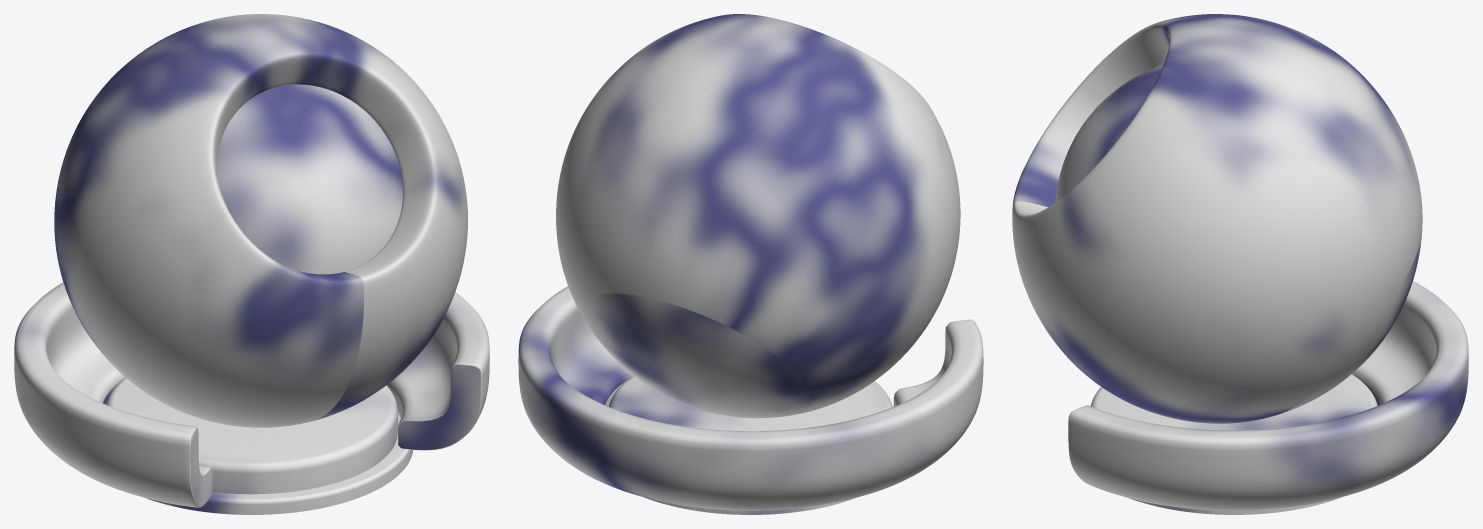
File: standard_surface_marble_solid.mtlx.gltf
The picture shows the model from 3 angles, left to right: view 1: azimuth 30°, elevation 25°; view 2: azimuth 150°, elevation 25°; view 3: azimuth 270°, elevation 25°; orthographic projection. The views are drawn at different scales.
Visible parts, largest first — view 1: Preview_Mesh, Calibration_Mesh; view 2: Preview_Mesh, Calibration_Mesh; view 3: Preview_Mesh, Calibration_Mesh.
Part boxes in pixels (x1,y1,x2,y2): Preview_Mesh: (14, 14, 489, 507); Calibration_Mesh: (106, 84, 413, 514); Preview_Mesh: (518, 14, 983, 510); Calibration_Mesh: (609, 376, 892, 514); Preview_Mesh: (1012, 14, 1468, 510); Calibration_Mesh: (1055, 65, 1377, 514).
Bounding box in the file's own units: 2.14 × 2.09 × 2.08.
Materials: 1 (1 with a texture image).
